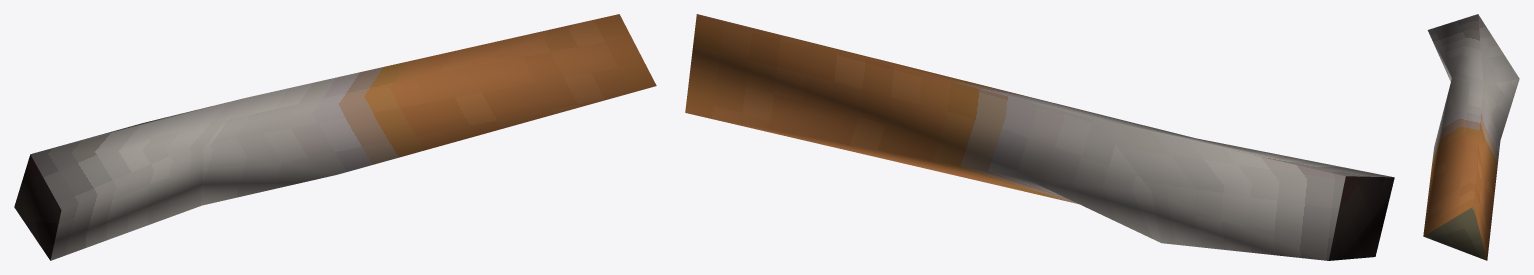
File: cig_2.glb
The picture shows the model from 3 angles, left to right: view 1: azimuth 30°, elevation 25°; view 2: azimuth 150°, elevation 25°; view 3: azimuth 270°, elevation 25°; orthographic projection. The views are drawn at different scales.
Parts seen in each view (by area): view 1: cig_2; view 2: cig_2; view 3: cig_2.
Boxes of the visible parts, bbox=[...] form: cig_2: bbox=[14, 14, 656, 260]; cig_2: bbox=[685, 14, 1394, 260]; cig_2: bbox=[1423, 14, 1519, 260].
Size of the model in its own units: 0.0917 by 0.0131 by 0.0192.
1 material, 1 textured.
